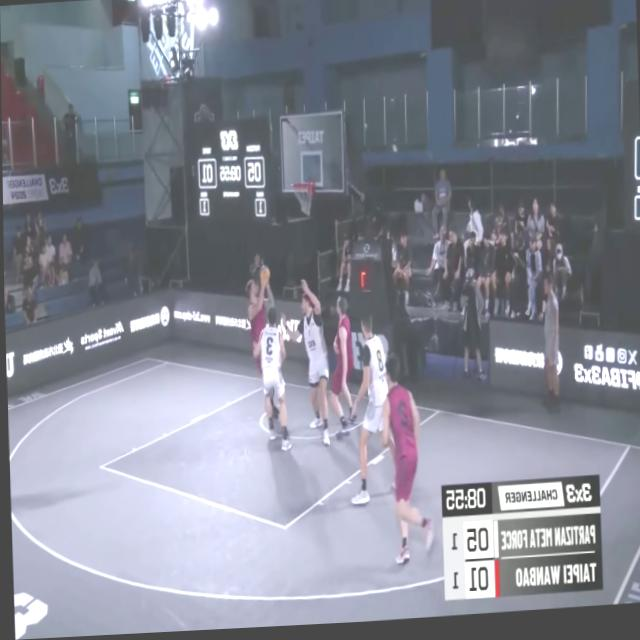ball: (257, 267, 272, 291)
hoop: (292, 182, 314, 221)
player: (373, 357, 436, 573), (344, 316, 396, 518), (284, 283, 336, 456), (322, 293, 358, 445), (255, 308, 290, 458), (244, 263, 275, 428)
